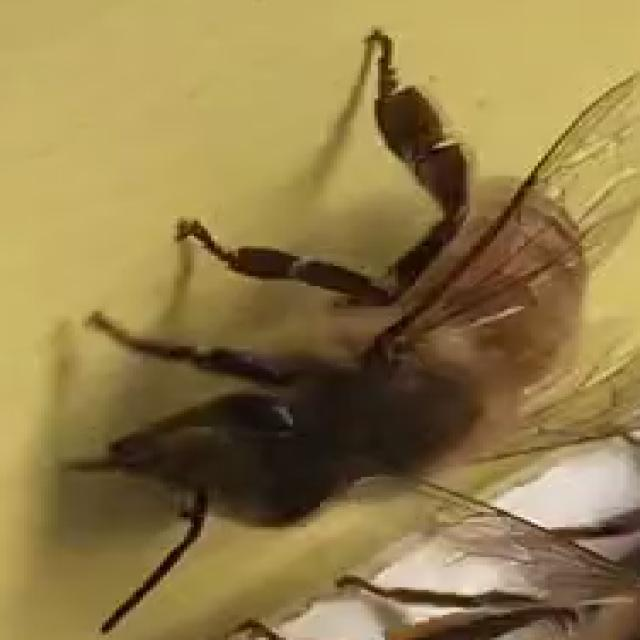honeybee: (101, 64, 640, 612)
